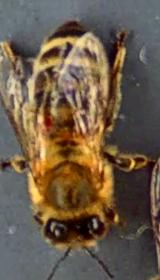varroa_mite: (20, 102, 64, 138)
